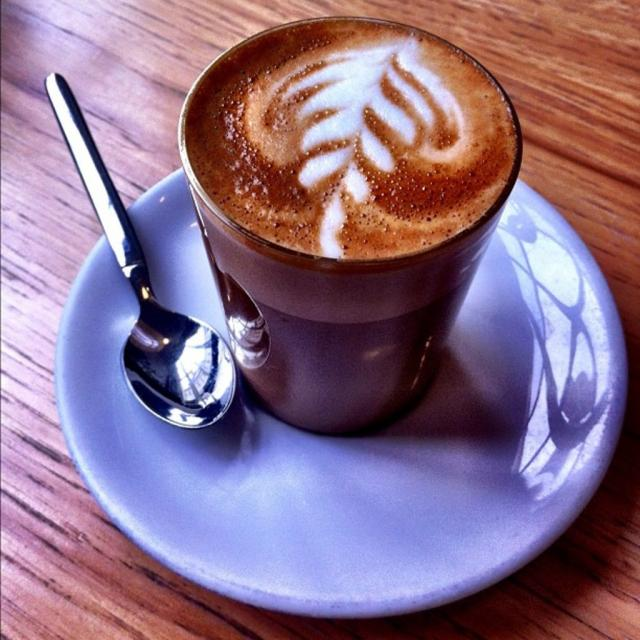latte: (177, 15, 523, 260)
